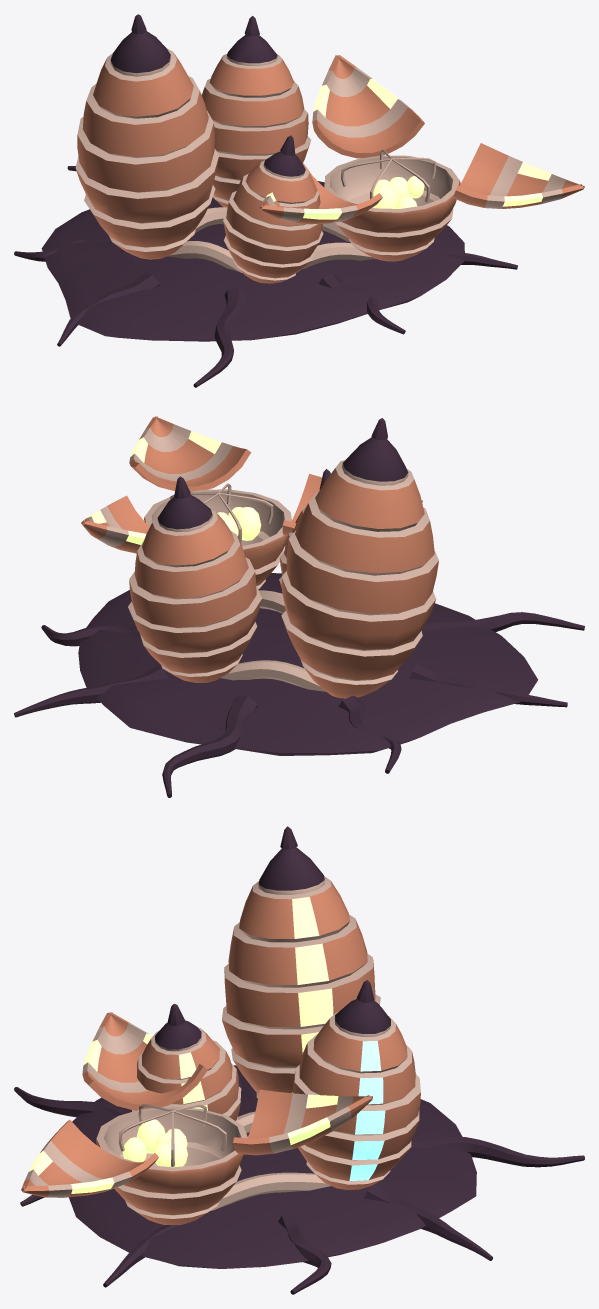
Rendered from deco_pod_cluster.fbx.
3 renders of one model, top to bottom at view 1: azimuth 30°, elevation 25°; view 2: azimuth 150°, elevation 25°; view 3: azimuth 270°, elevation 25°, orthographic. The views are drawn at different scales.
Visible parts, largest first — view 1: PodCluster_Pods, PodCluster_Roots, PodCluster_OpenPod, PodCluster_PetalA, PodCluster_PetalC, PodCluster_PetalB, PodCluster_Seeds; view 2: PodCluster_Pods, PodCluster_Roots, PodCluster_PetalC, PodCluster_OpenPod, PodCluster_PetalA, PodCluster_Seeds, PodCluster_PetalB; view 3: PodCluster_Pods, PodCluster_Roots, PodCluster_OpenPod, PodCluster_PetalC, PodCluster_PetalA, PodCluster_PetalB, PodCluster_Seeds.
Part boxes in pixels (x1,y1,x2,y2): PodCluster_Pods: [75, 14, 323, 283]; PodCluster_Roots: [14, 166, 517, 387]; PodCluster_OpenPod: [324, 155, 460, 261]; PodCluster_PetalA: [312, 55, 424, 158]; PodCluster_PetalC: [453, 143, 584, 208]; PodCluster_PetalB: [259, 163, 382, 224]; PodCluster_Seeds: [341, 149, 435, 208]; PodCluster_Pods: [128, 418, 438, 698]; PodCluster_Roots: [14, 573, 584, 797]; PodCluster_PetalC: [129, 416, 251, 491]; PodCluster_OpenPod: [144, 489, 291, 588]; PodCluster_PetalA: [81, 495, 149, 553]; PodCluster_Seeds: [170, 483, 273, 543]; PodCluster_PetalB: [282, 474, 422, 536]; PodCluster_Pods: [132, 826, 420, 1189]; PodCluster_Roots: [14, 1065, 584, 1294]; PodCluster_OpenPod: [96, 1106, 247, 1224]; PodCluster_PetalC: [21, 1120, 158, 1197]; PodCluster_PetalA: [233, 1089, 372, 1155]; PodCluster_PetalB: [82, 1012, 207, 1110]; PodCluster_Seeds: [118, 1104, 226, 1167].
Bounding box in the file's own units: 328 × 186 × 320.
